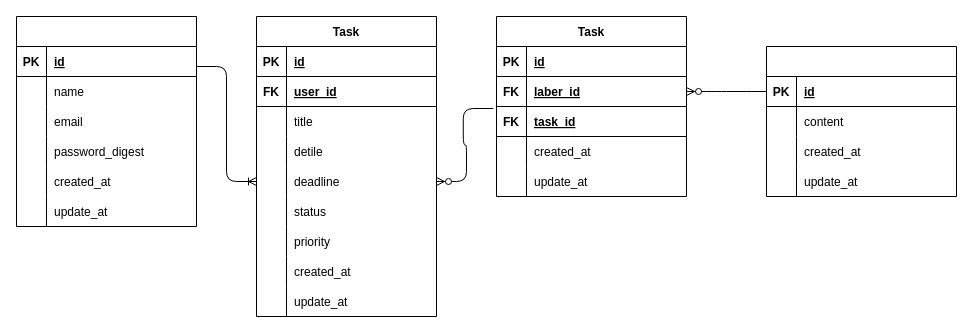
Some shapes in this 973 by 333 pixel diagram are drawn without their labels. The shapes that lost their labels are listed below. From the top down, each one's box as (x1, y1, x2, y2) in pixels, then its label:
(16, 16, 196, 226): User
(766, 46, 956, 196): laber
